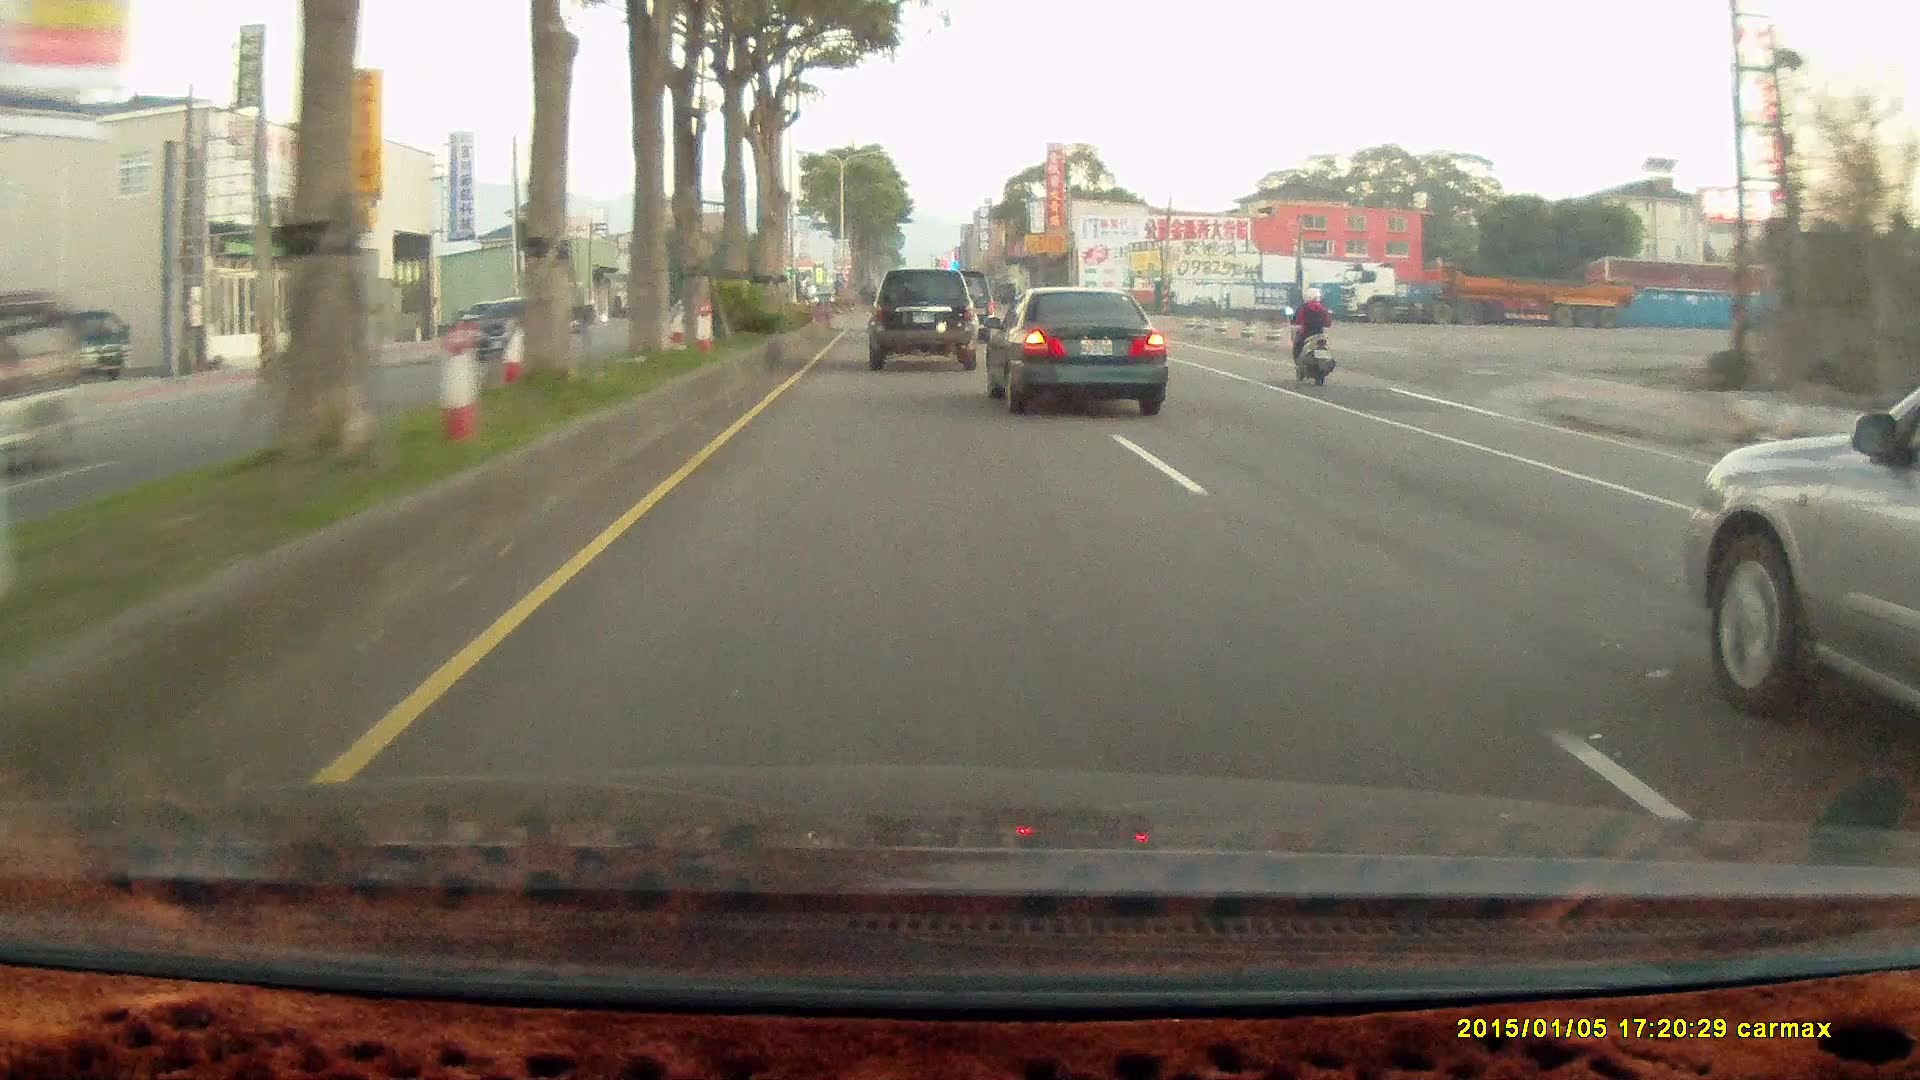rider: (1275, 278, 1345, 394), (1285, 284, 1335, 385)
vehicle: (1692, 378, 1920, 743), (983, 286, 1167, 415), (985, 286, 1169, 415), (1344, 259, 1634, 328), (1, 285, 89, 460), (866, 266, 981, 374), (864, 266, 976, 367), (8, 306, 127, 383), (466, 298, 571, 366), (459, 296, 564, 364)
